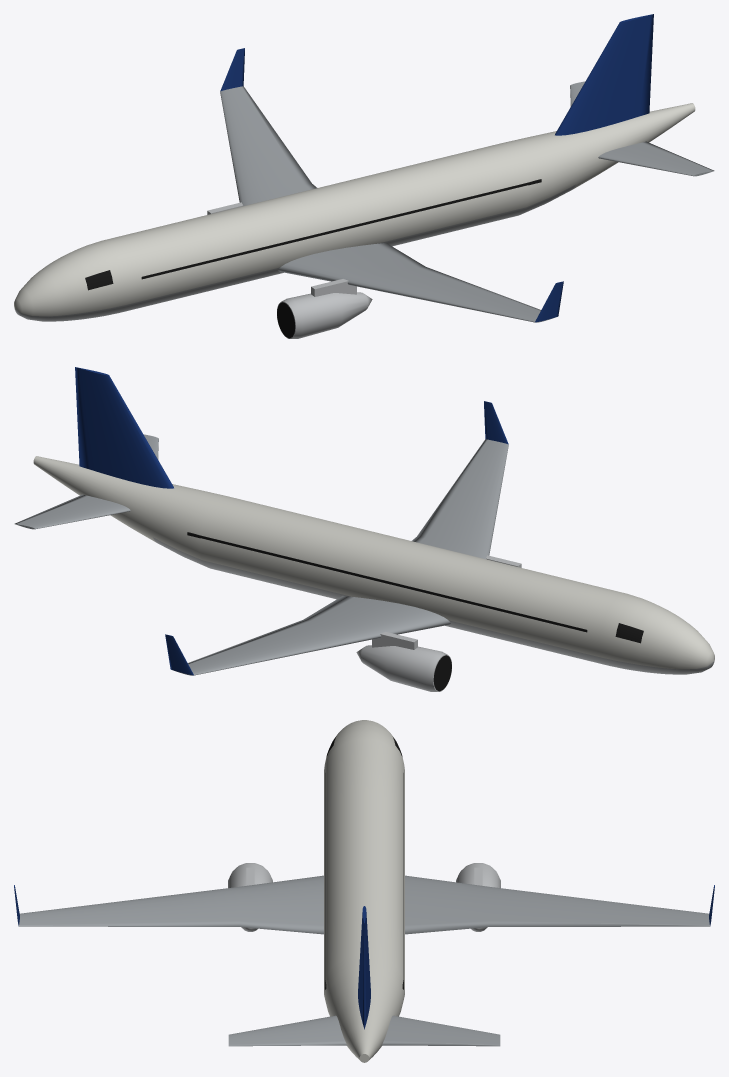
The picture shows the model from 3 angles, top to bottom: view 1: azimuth 30°, elevation 25°; view 2: azimuth 150°, elevation 25°; view 3: azimuth 270°, elevation 25°; orthographic projection. The views are drawn at different scales.
Visible parts, largest first — view 1: e175; view 2: e175; view 3: e175.
Boxes of the visible parts, x1,y1,x2,y2 form: e175: (14, 14, 714, 338); e175: (14, 367, 714, 691); e175: (14, 720, 714, 1062).
Bounding box in the file's own units: 31.68 × 8.25 × 25.84.
